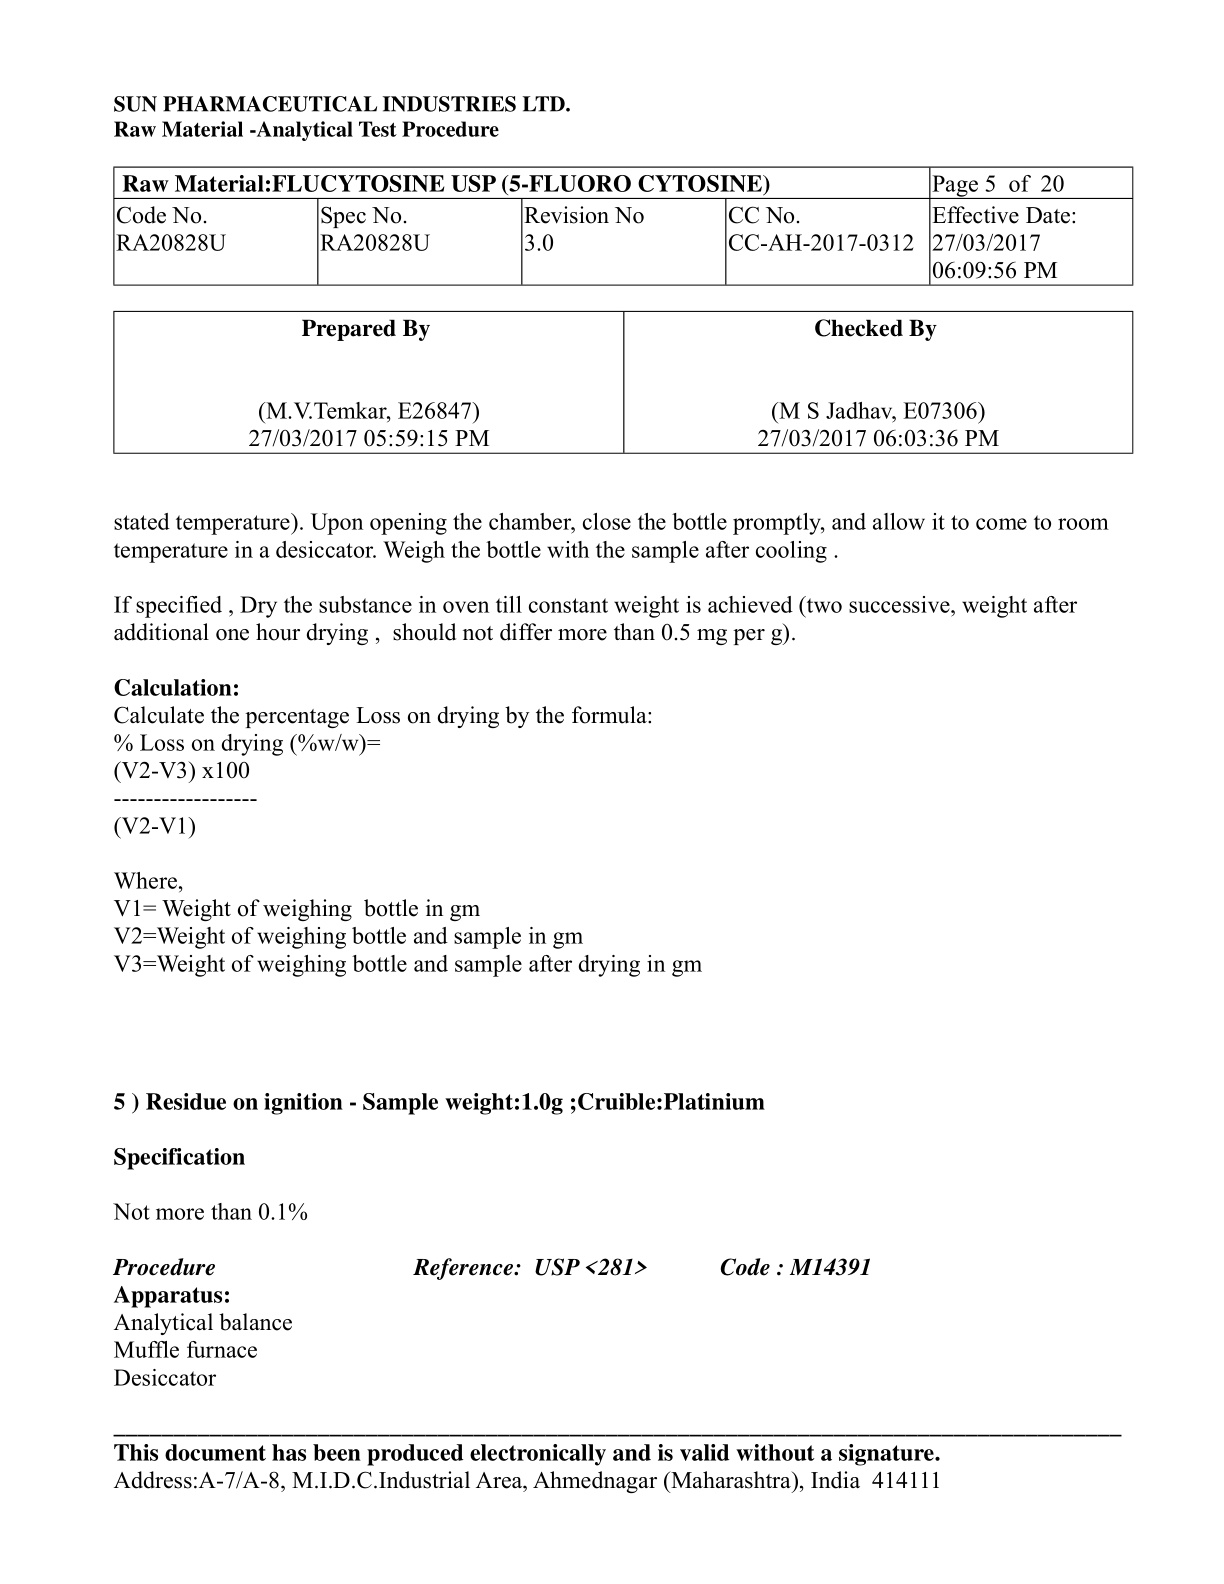full_lined: (111, 310, 1134, 454)
merged_cells: (111, 165, 1134, 287)
